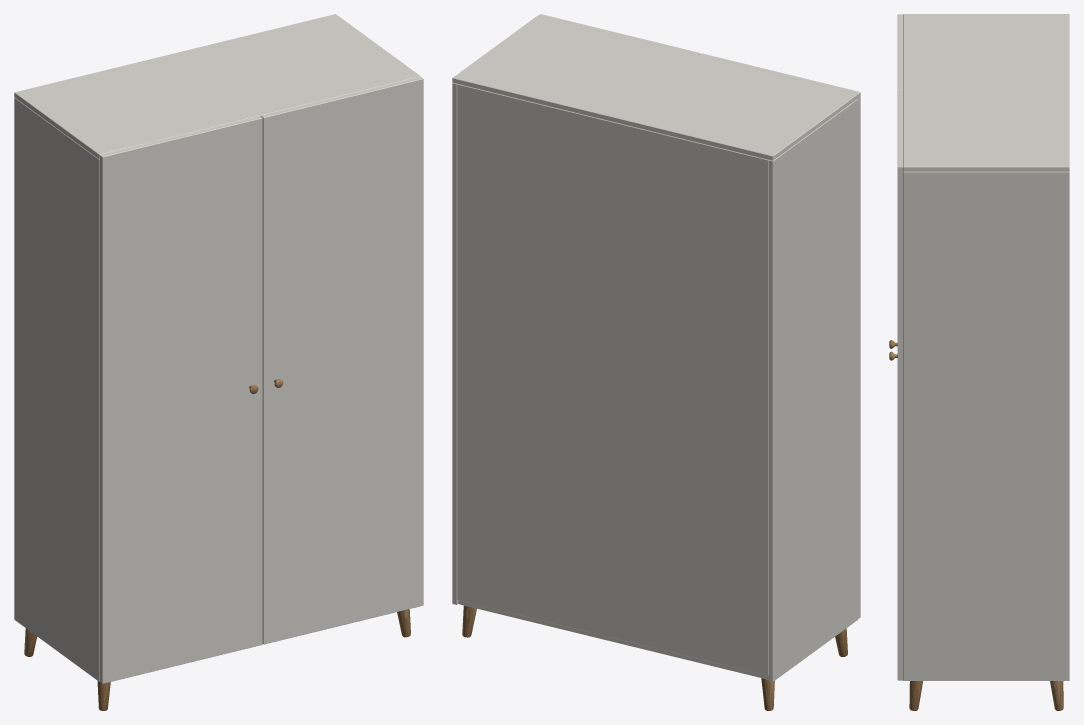
File: armario_nordico_2p_120x200.glb
3 views of the same model, side by side, from view 1: azimuth 30°, elevation 25°; view 2: azimuth 150°, elevation 25°; view 3: azimuth 270°, elevation 25° (orthographic). The views are drawn at different scales.
Parts seen in each view (by area): view 1: armario_nordico_2p_120x200; view 2: armario_nordico_2p_120x200; view 3: armario_nordico_2p_120x200.
Boxes of the visible parts, x1,y1,x2,y2 form: armario_nordico_2p_120x200: (14,14,423,710); armario_nordico_2p_120x200: (452,14,860,710); armario_nordico_2p_120x200: (889,14,1069,710).
Size of the model in its own units: 1.2 by 2 by 0.5981.
Materials: 2 (1 with a texture image).
